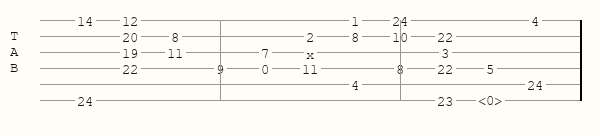0: (261, 62, 273, 75)
1: (351, 14, 363, 27)
10: (392, 30, 412, 43)
11: (167, 46, 187, 59), (302, 62, 322, 75)
12: (122, 14, 142, 27)
14: (77, 14, 97, 27)
19: (122, 46, 142, 59)
2: (306, 30, 318, 43)
20: (122, 30, 142, 43)
22: (122, 62, 142, 75), (437, 30, 457, 43), (437, 62, 457, 75)
23: (437, 94, 457, 107)
24: (77, 94, 97, 107), (392, 14, 412, 27), (527, 78, 547, 91)
3: (441, 46, 453, 59)
4: (351, 78, 363, 91), (531, 14, 543, 27)
5: (486, 62, 498, 75)
7: (261, 46, 273, 59)
8: (171, 30, 183, 43), (351, 30, 363, 43), (396, 62, 408, 75)
9: (216, 62, 228, 75)
harmonic: (478, 93, 506, 107)
x: (306, 47, 318, 57)
